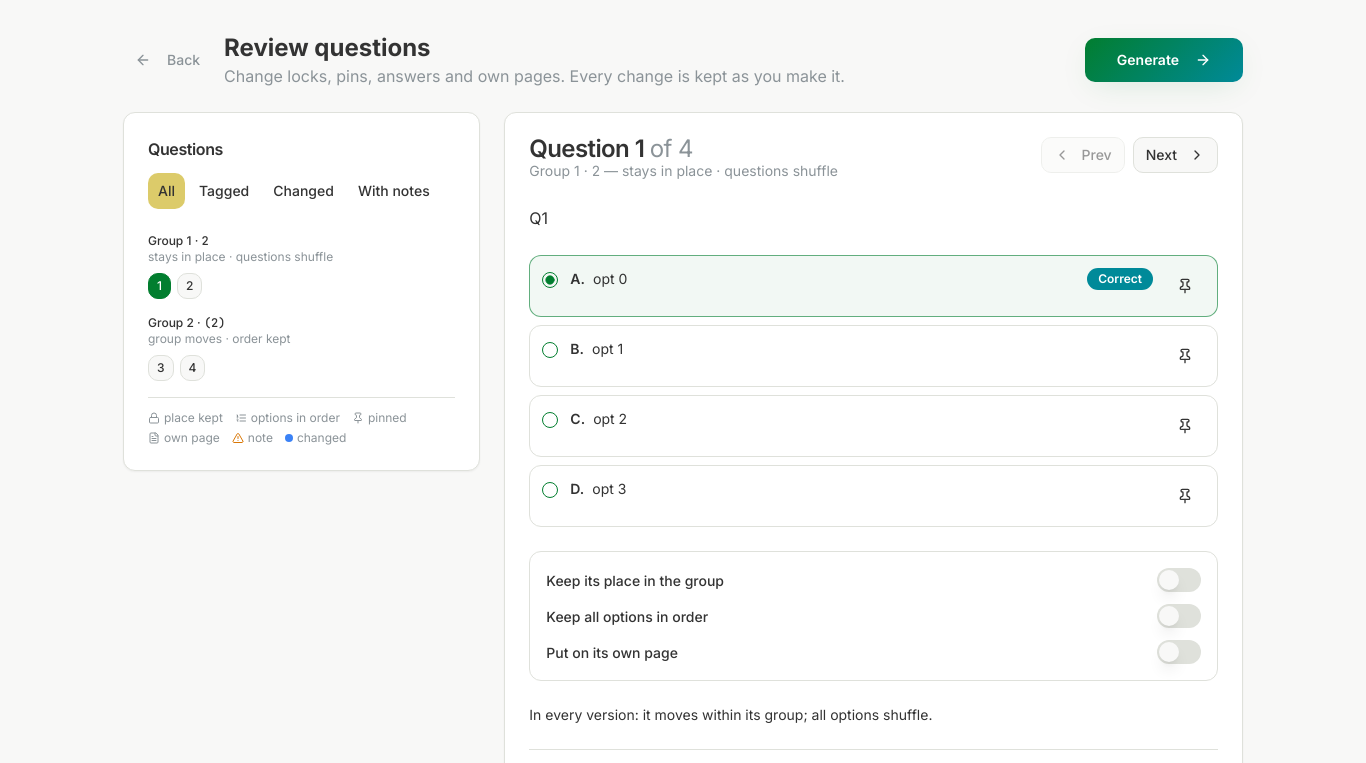
Test case: Questions page › jumps to a question from its chip and moves with Prev / Next in exam order
Click the button with test id "chip-3" at (161, 368), box [148, 355, 174, 381]
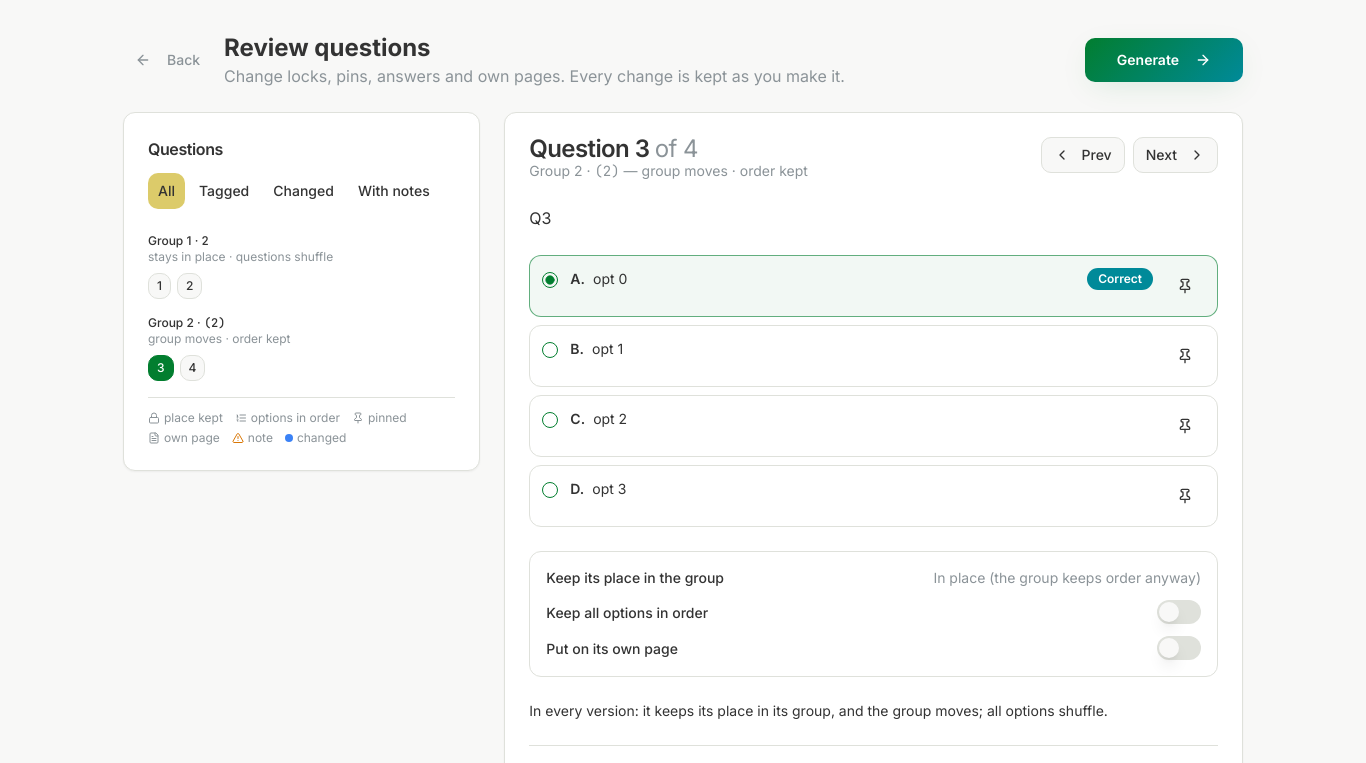
Expected: the heading with test id "question-title" reads "Question 3 of 4", [529, 134, 698, 163]
Click the button "Next" at (1175, 155), box [1133, 137, 1218, 173]
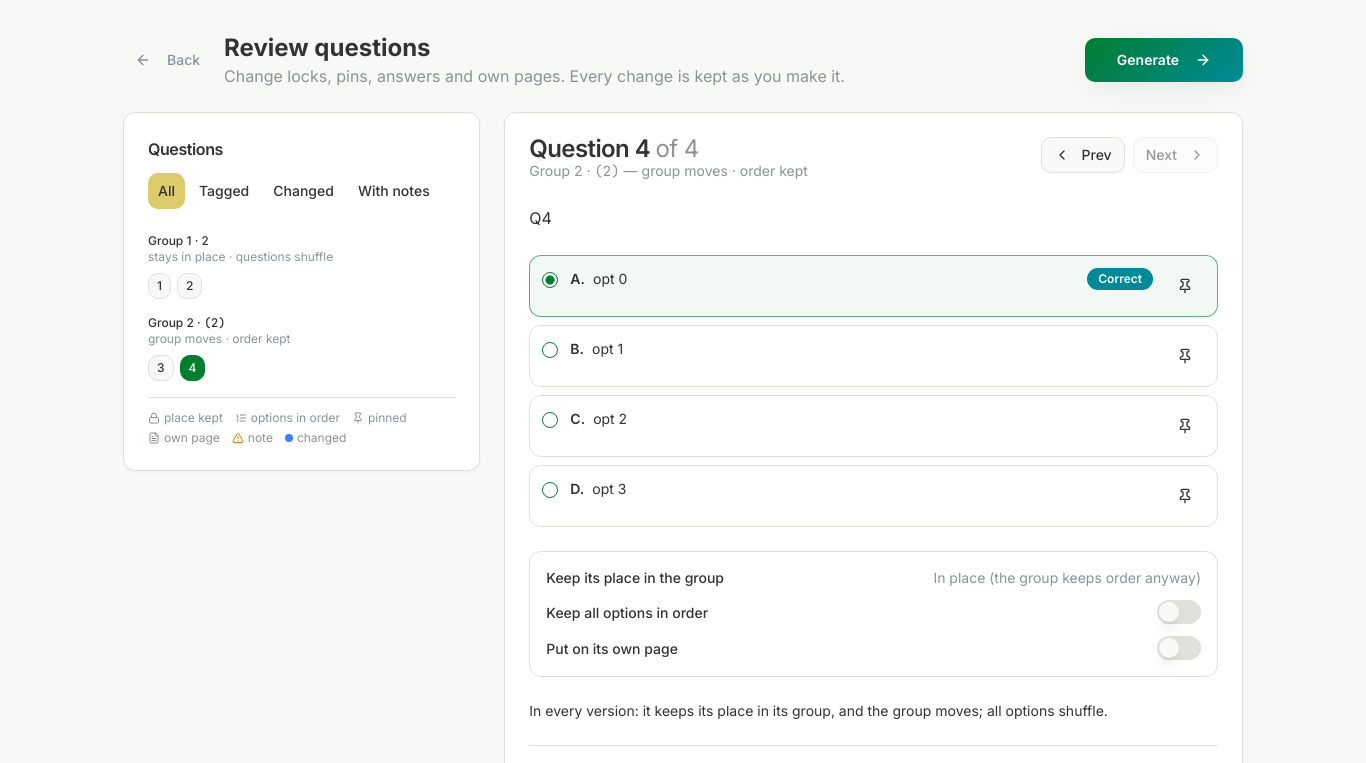
Expected: the heading with test id "question-title" reads "Question 4 of 4", [529, 134, 699, 163]
Expected: the button "Next" is disabled, [1133, 137, 1218, 173]
Click the button "Prev" at (1083, 155), box [1040, 137, 1125, 173]
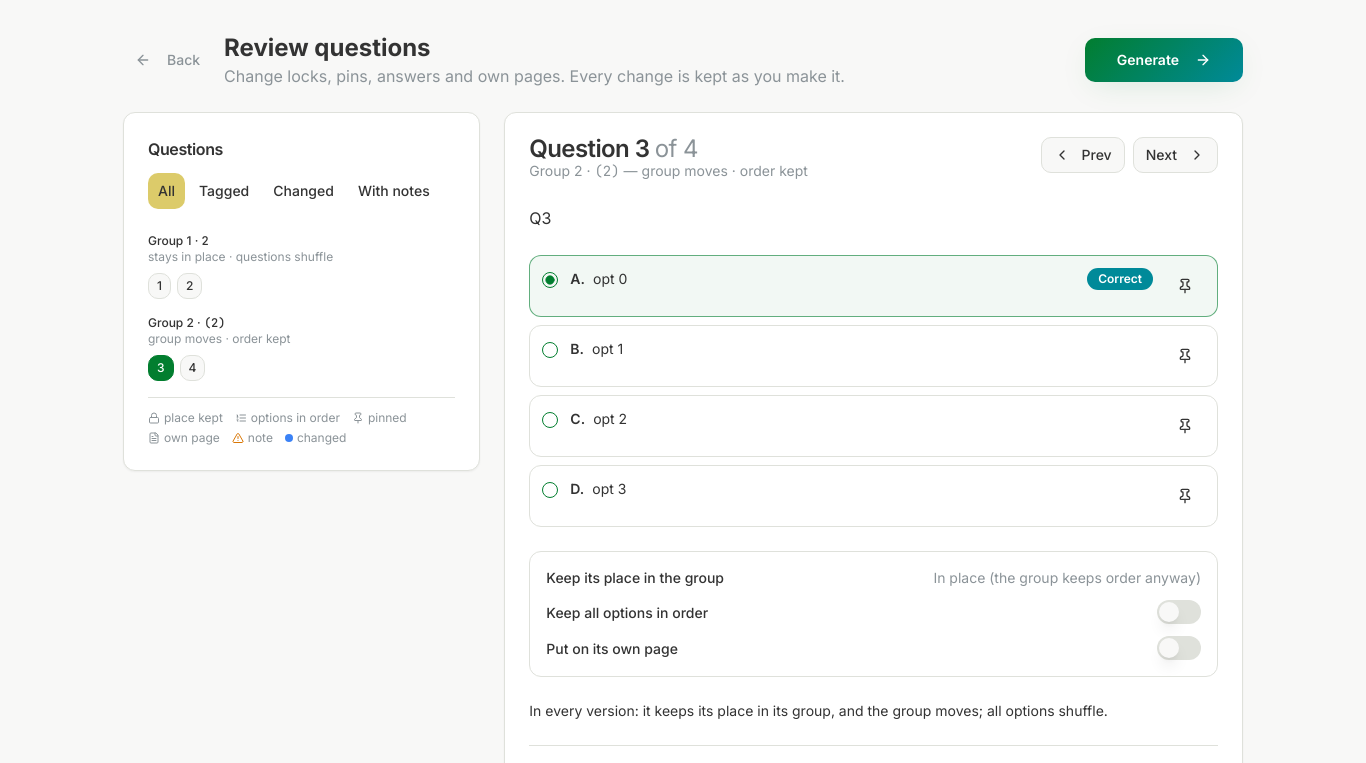
Expected: the heading with test id "question-title" reads "Question 3 of 4", [529, 134, 698, 163]
